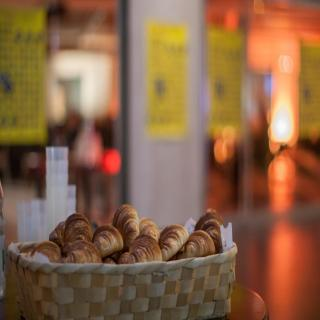Croissant: (22, 210, 224, 266), (110, 205, 140, 251)
